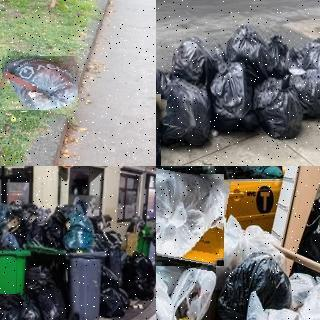Garbage: (156, 171, 227, 269), (212, 247, 292, 320), (0, 53, 80, 113), (156, 77, 211, 148), (211, 60, 261, 136), (252, 76, 301, 140), (224, 23, 272, 78), (169, 35, 214, 84), (286, 67, 320, 118), (121, 250, 155, 300), (99, 264, 130, 317), (35, 278, 69, 320), (65, 206, 94, 251), (302, 37, 320, 104), (0, 292, 22, 320)
